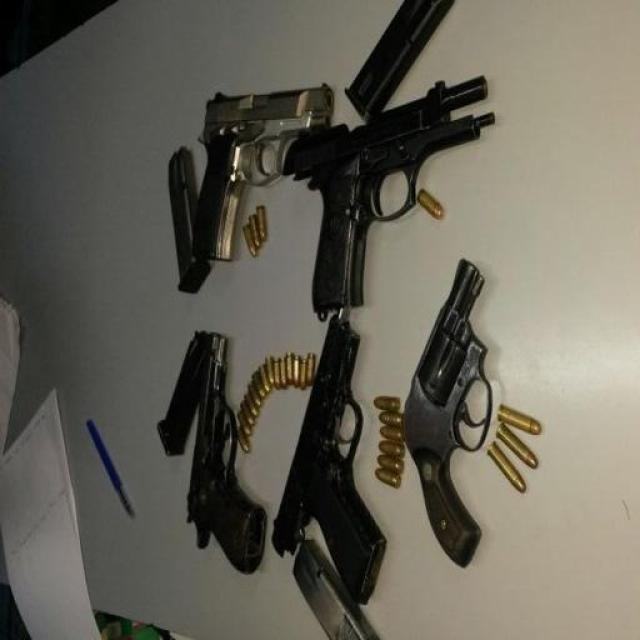pistol: (300, 70, 494, 321), (271, 302, 381, 601), (401, 256, 495, 564), (185, 79, 337, 261), (185, 333, 265, 578)
